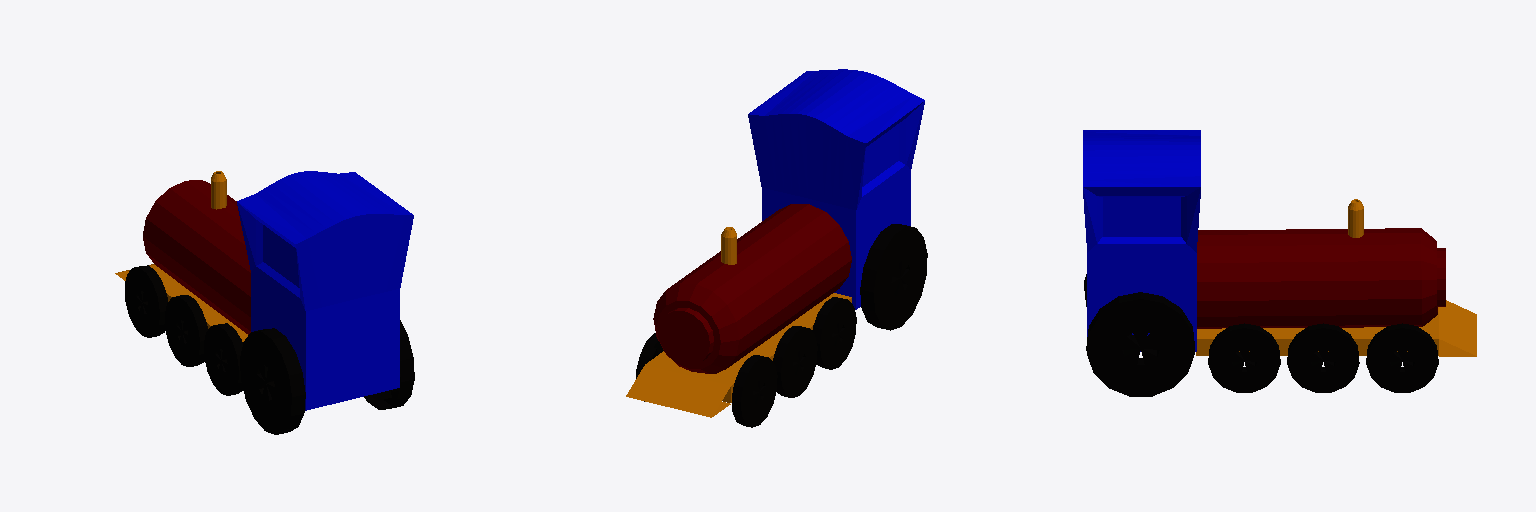
Rendered from train.obj.
3 renders of one model, left to right at view 1: azimuth 30°, elevation 25°; view 2: azimuth 150°, elevation 25°; view 3: azimuth 270°, elevation 25°, orthographic.
Visible parts, largest first — view 1: Cabin_Cube.001, Engine_Cylinder, Circle.005_Wheel8.002, Circle.007_Wheel8, Circle.004_Wheel8.001, Circle.006_Wheel8.003, Circle.003_Wheel4, Train_Base_Cube.002, Chimney_Cylinder.001; view 2: Cabin_Cube.001, Engine_Cylinder, Circle.005_Wheel8.002, Train_Base_Cube.002, Circle.007_Wheel8, Circle.004_Wheel8.001, Circle.006_Wheel8.003, Chimney_Cylinder.001; view 3: Engine_Cylinder, Cabin_Cube.001, Circle.003_Wheel4, Circle_Wheel1, Circle.002_Wheel3, Circle.001_Wheel2, Train_Base_Cube.002, Chimney_Cylinder.001.
Boxes of the visible parts, x1,y1,x2,y2 form: Cabin_Cube.001: [237, 171, 413, 410]; Engine_Cylinder: [143, 180, 250, 334]; Circle.005_Wheel8.002: [240, 328, 305, 434]; Circle.007_Wheel8: [125, 265, 167, 337]; Circle.004_Wheel8.001: [165, 295, 207, 366]; Circle.006_Wheel8.003: [204, 323, 243, 395]; Circle.003_Wheel4: [364, 320, 414, 409]; Train_Base_Cube.002: [115, 264, 247, 341]; Chimney_Cylinder.001: [211, 171, 226, 209]; Cabin_Cube.001: [748, 69, 924, 309]; Engine_Cylinder: [653, 204, 851, 373]; Circle.005_Wheel8.002: [860, 224, 927, 330]; Train_Base_Cube.002: [626, 293, 851, 417]; Circle.007_Wheel8: [732, 355, 777, 427]; Circle.004_Wheel8.001: [773, 326, 817, 397]; Circle.006_Wheel8.003: [812, 297, 856, 369]; Chimney_Cylinder.001: [721, 227, 736, 264]; Engine_Cylinder: [1197, 228, 1445, 328]; Cabin_Cube.001: [1083, 130, 1200, 351]; Circle.003_Wheel4: [1086, 292, 1194, 396]; Circle_Wheel1: [1366, 323, 1438, 392]; Circle.002_Wheel3: [1208, 323, 1280, 392]; Circle.001_Wheel2: [1287, 323, 1359, 392]; Train_Base_Cube.002: [1196, 300, 1476, 356]; Chimney_Cylinder.001: [1348, 199, 1363, 237].
Size of the model in its own units: 2.89 by 4.95 by 7.93.